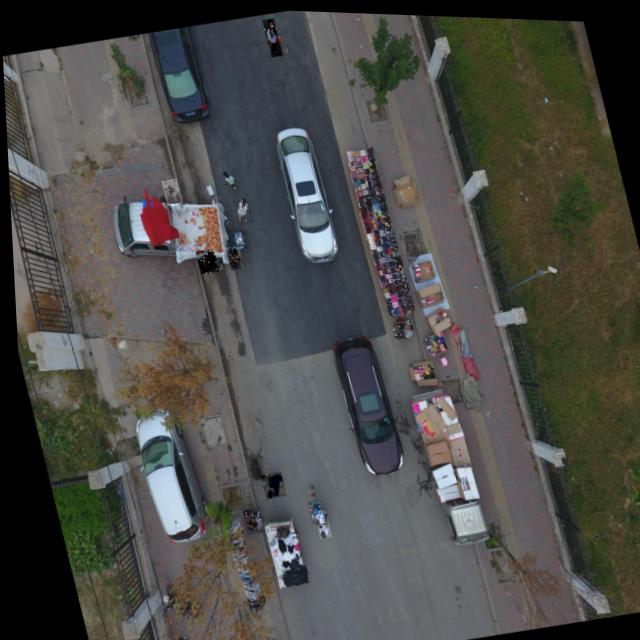Person: (262, 16, 283, 56), (254, 469, 281, 498), (236, 505, 260, 533), (159, 176, 181, 206), (230, 195, 251, 224), (193, 247, 216, 273), (308, 507, 327, 537), (388, 314, 412, 337), (302, 498, 321, 524), (224, 245, 242, 269), (220, 167, 237, 192), (140, 633, 189, 640), (231, 230, 242, 243)
